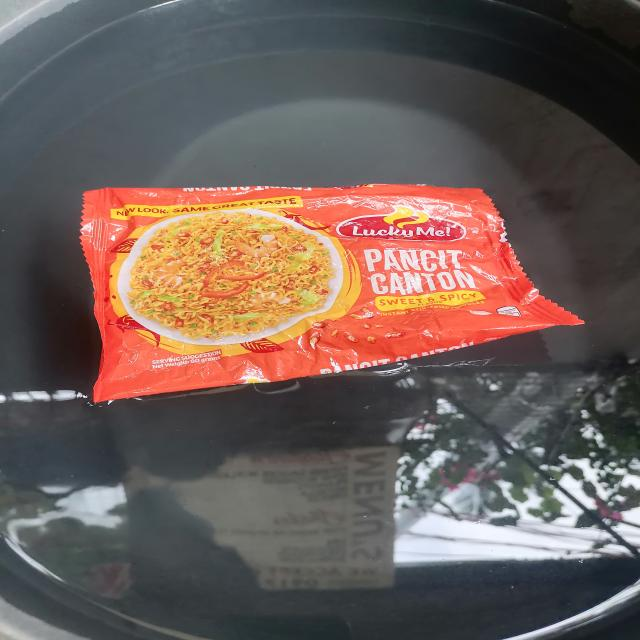Plastic Wrapper: (42, 173, 600, 419)
